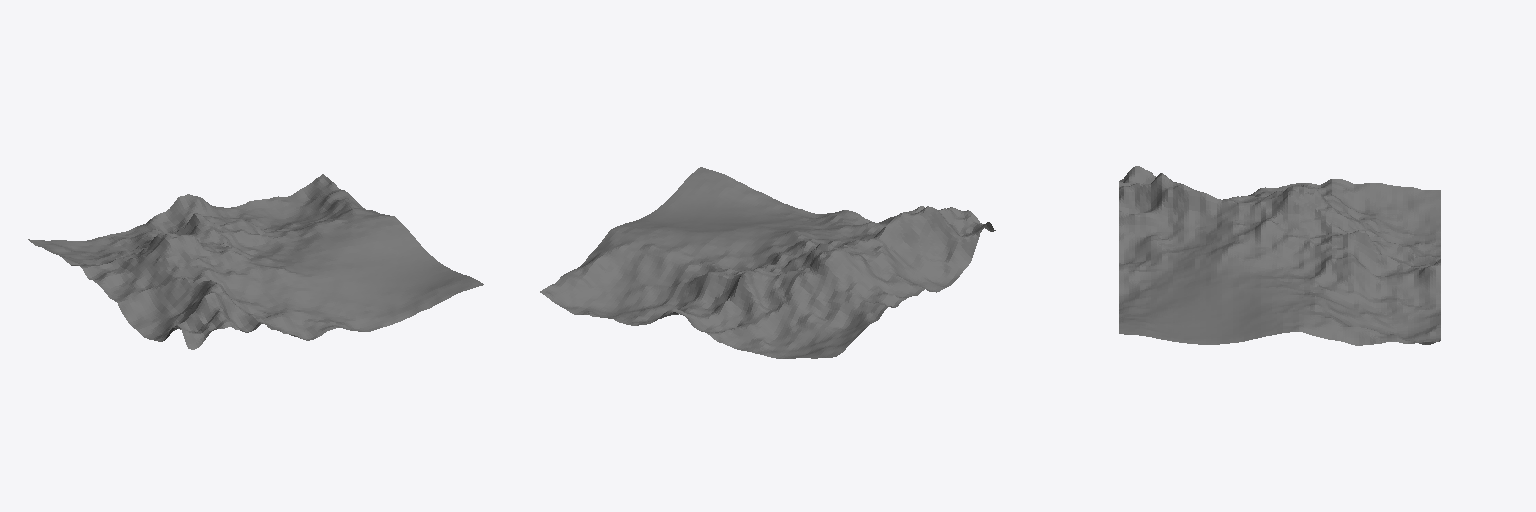
Rendered from ground14.obj.
3 renders of one model, left to right at view 1: azimuth 30°, elevation 25°; view 2: azimuth 150°, elevation 25°; view 3: azimuth 270°, elevation 25°, orthographic.
Visible parts, largest first — view 1: ground14; view 2: ground14; view 3: ground14.
Boxes of the visible parts, box(x1,y1,x2,y2) form: ground14: box(28, 174, 483, 349); ground14: box(540, 167, 995, 358); ground14: box(1119, 166, 1440, 345).
Bounding box in the file's own units: 82.58 × 17.29 × 77.85.